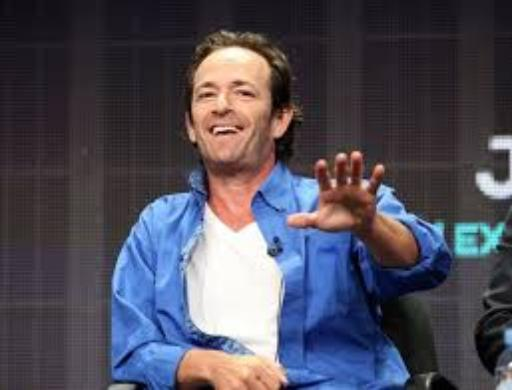left_eye: (236, 90, 255, 100)
left_lip_corner: (234, 124, 250, 134)
right_eye: (199, 91, 218, 100)
right_lip_corner: (204, 125, 217, 137)
